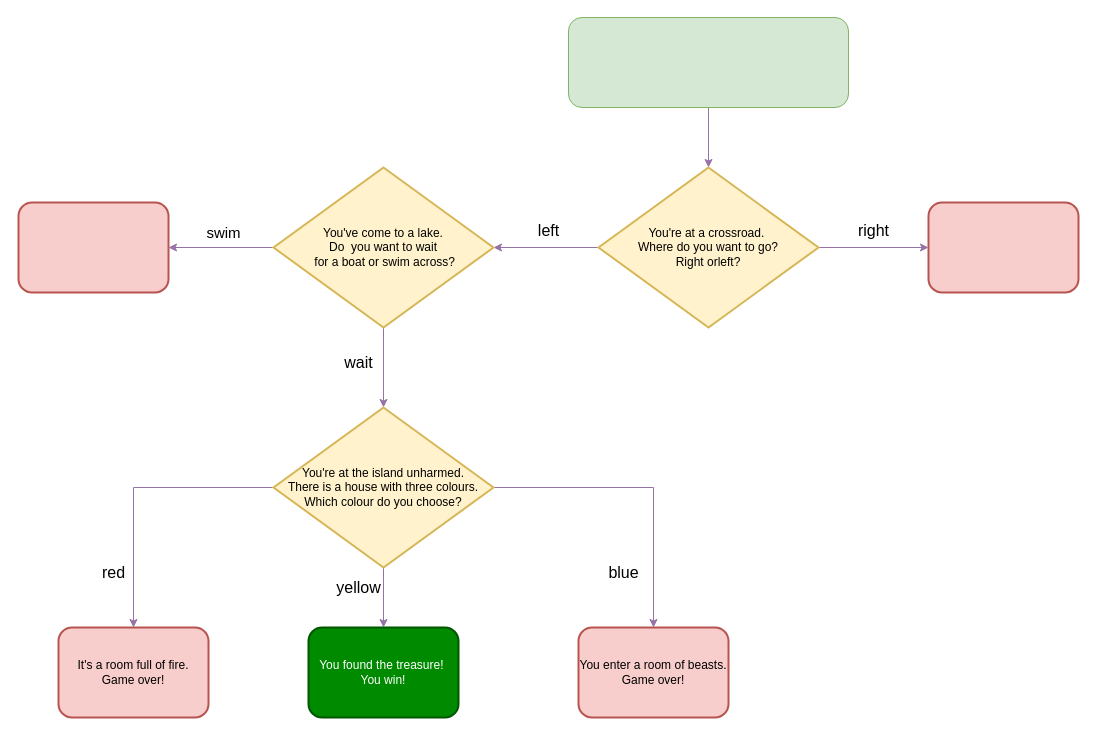
This 1096x736 diagram has some shape labels left out. The shapes that lost their labels are listed below. From the top down, each one's centre as x and y in pixels, then its label:
At (708,62): "Start".
At (93,247): "You get attacked by an angry trout. Game over!".
At (1003,247): "You fall into a hole. Game over!".
